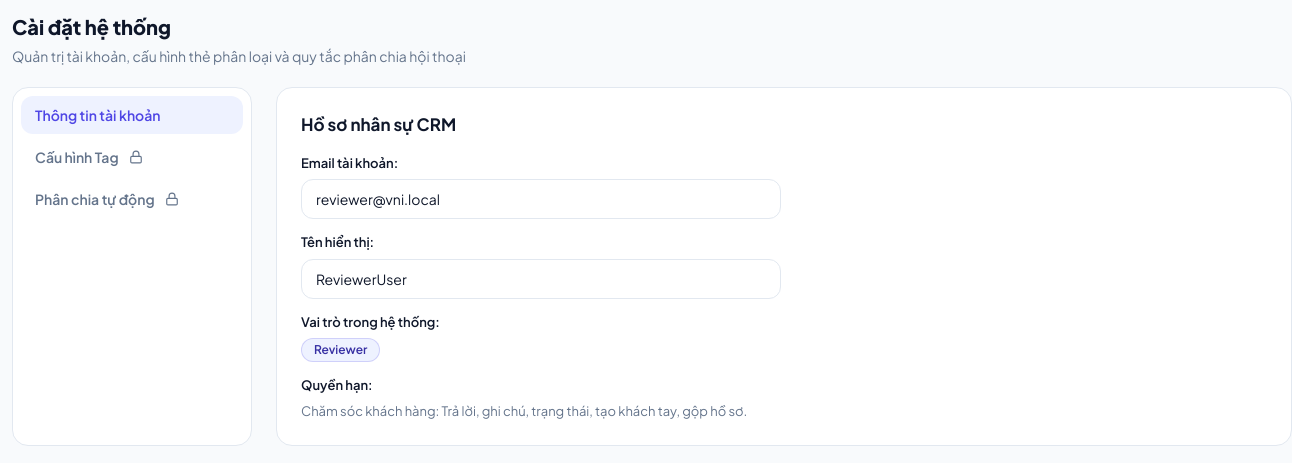
it: AC crm-auth-roles-test (42a67d24) - Role-based button visibility › Reviewer (Chăm sóc khách hàng) role permissions › shows permission denied for management settings tabs for Reviewer
This screenshot has width=1292, height=463.
What coordinates should you click on to do the following:
click the button with test id "tab-tags"
I would click on:
 (132, 157)
Its box is [21, 138, 243, 176].
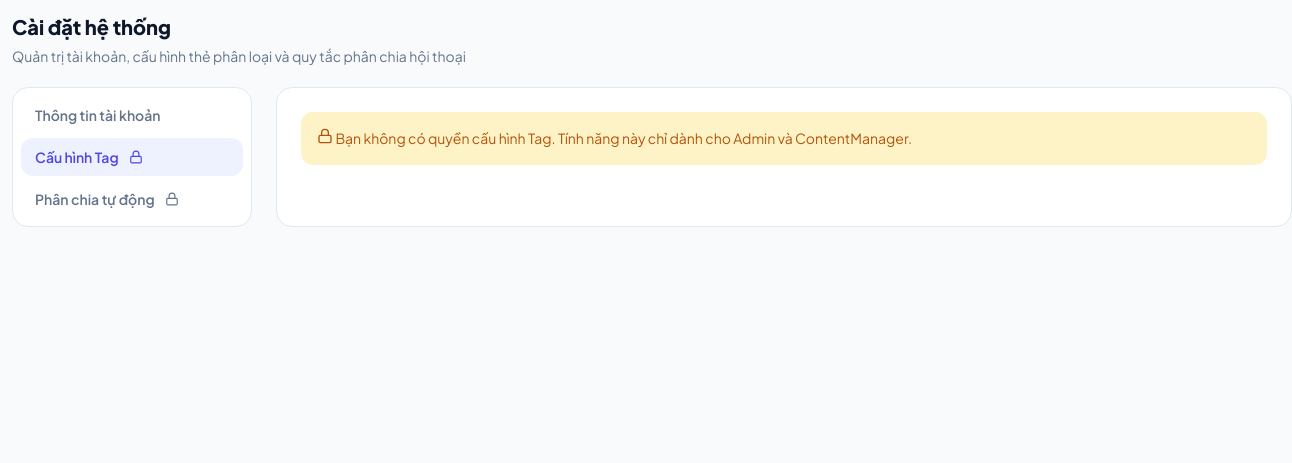
Now the element with test id "tags-permission-denied" is shown, box [301, 112, 1267, 165]
